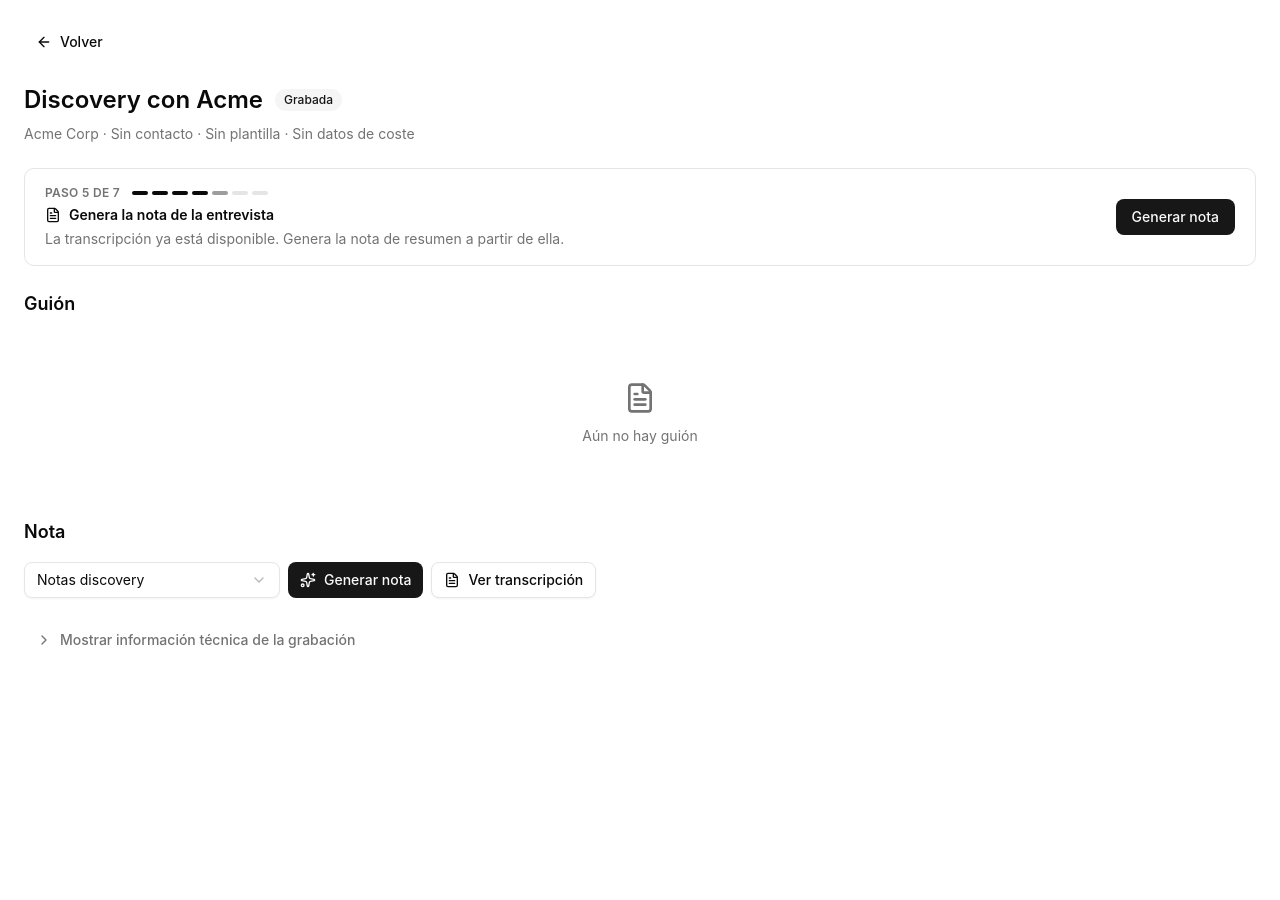
it: NoteSection › generation › shows the disabled "Generando nota…" button while the generation is pending
The width and height of the screenshot is (1280, 900).
Click the button "Generar nota" below "Aún no hay guión" at (356, 580), box x1=288 y1=562 x2=424 y2=598
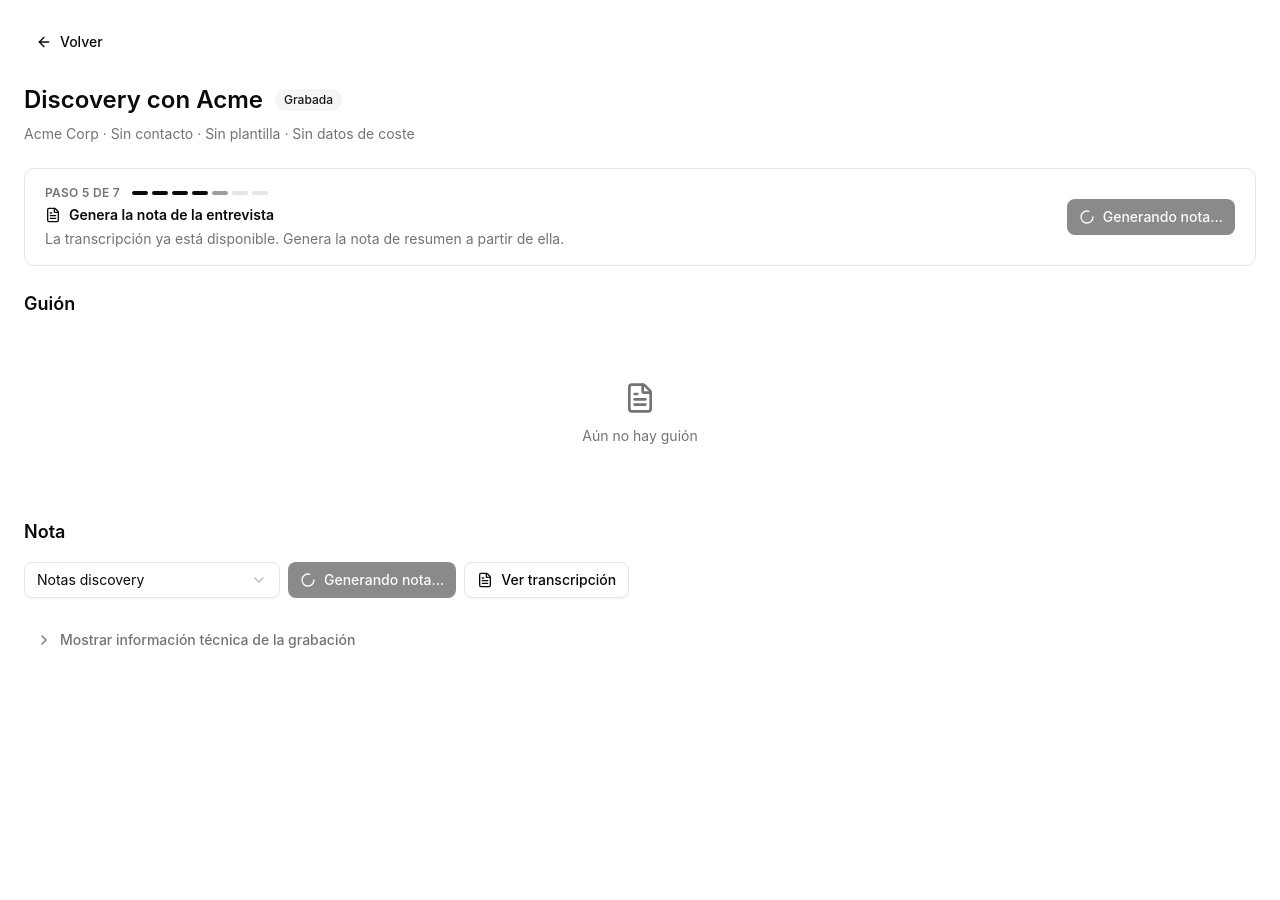
Now the button "Generando nota…" below "Aún no hay guión" is disabled, box x1=288 y1=562 x2=456 y2=598
